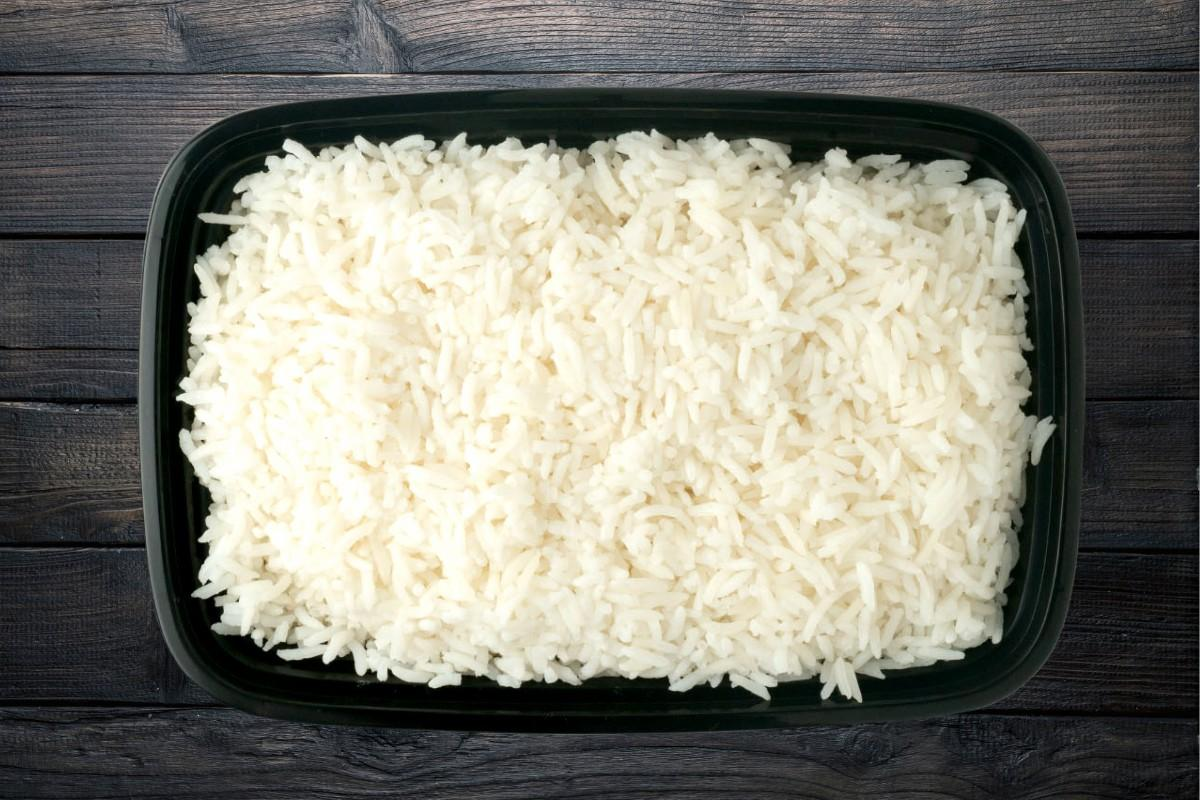WhiteRice: (175, 124, 1056, 700)
